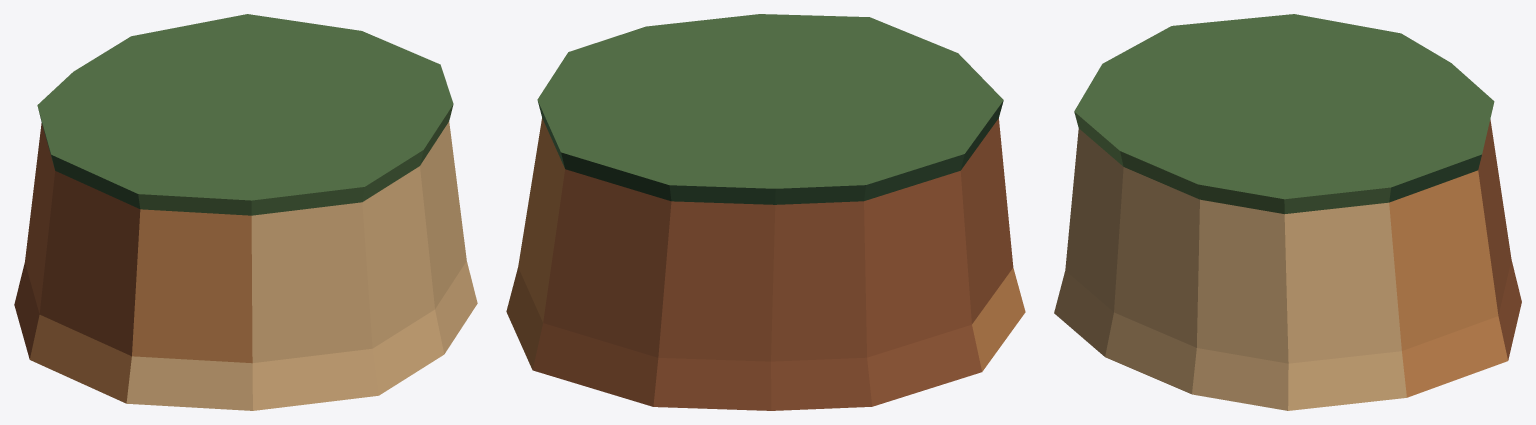
File: rock_largeD.glb
3 renders of one model, left to right at view 1: azimuth 30°, elevation 25°; view 2: azimuth 150°, elevation 25°; view 3: azimuth 270°, elevation 25°, orthographic. The views are drawn at different scales.
Visible parts, largest first — view 1: rock_largeD.002; view 2: rock_largeD.002; view 3: rock_largeD.002.
Boxes of the visible parts, x1,y1,x2,y2 form: rock_largeD.002: (14,14,477,410); rock_largeD.002: (506,14,1025,410); rock_largeD.002: (1054,14,1521,410).
Bounding box in the file's own units: 2.4 × 1.08 × 2.3.
